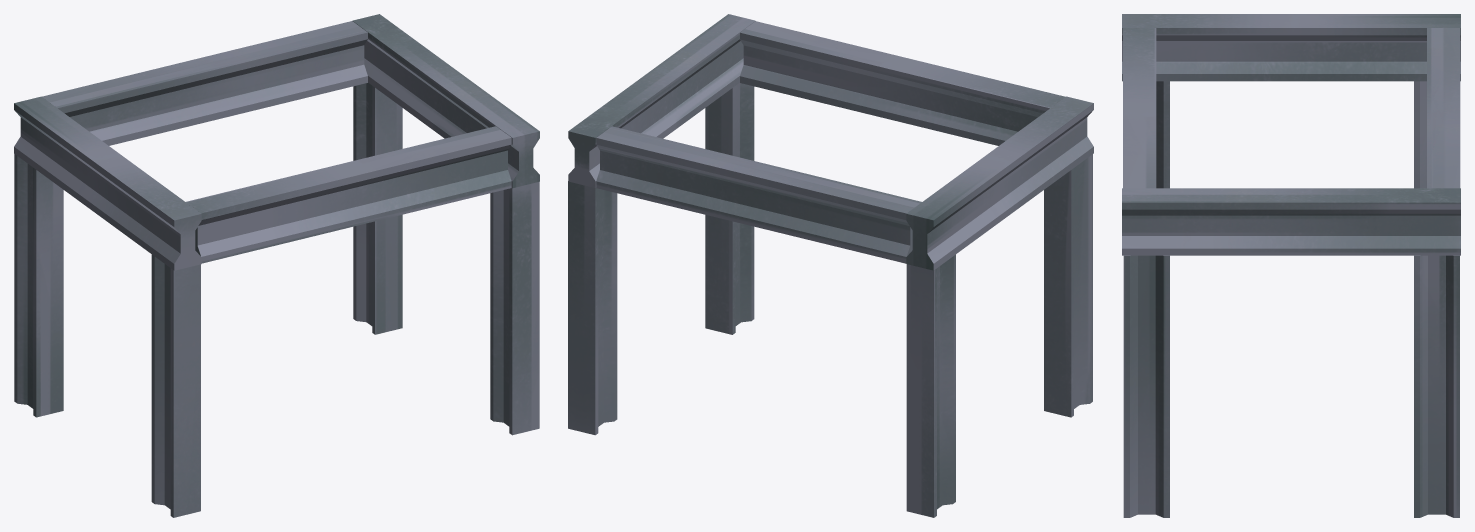
The model's file is CONS1.fbx.
3 renders of one model, left to right at view 1: azimuth 30°, elevation 25°; view 2: azimuth 150°, elevation 25°; view 3: azimuth 270°, elevation 25°, orthographic. The views are drawn at different scales.
Visible parts, largest first — view 1: Box021; view 2: Box021; view 3: Box021.
Boxes of the visible parts, left/top/right/bottom form: Box021: left=14, top=14, right=539, bottom=517; Box021: left=568, top=14, right=1093, bottom=517; Box021: left=1122, top=14, right=1460, bottom=517.
Bounding box in the file's own units: 399 × 311 × 303.
